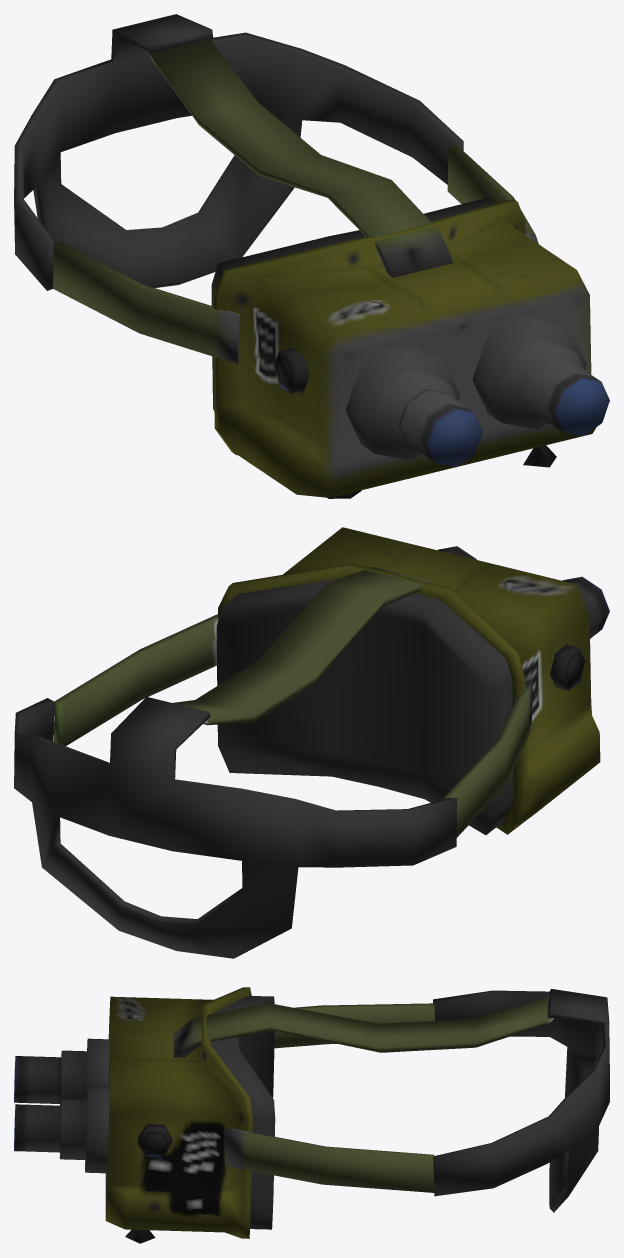
File: PVS5_WorldItem.fbx
3 views of the same model, one above another, from view 1: azimuth 30°, elevation 25°; view 2: azimuth 150°, elevation 25°; view 3: azimuth 270°, elevation 25° (orthographic). The views are drawn at different scales.
Visible parts, largest first — view 1: Cube.023; view 2: Cube.023; view 3: Cube.023.
Boxes of the visible parts, x1,y1,x2,y2 form: Cube.023: (14,14,609,498); Cube.023: (14,527,609,958); Cube.023: (14,987,609,1243).
Size of the model in its own units: 0.269 by 0.158 by 0.427.
